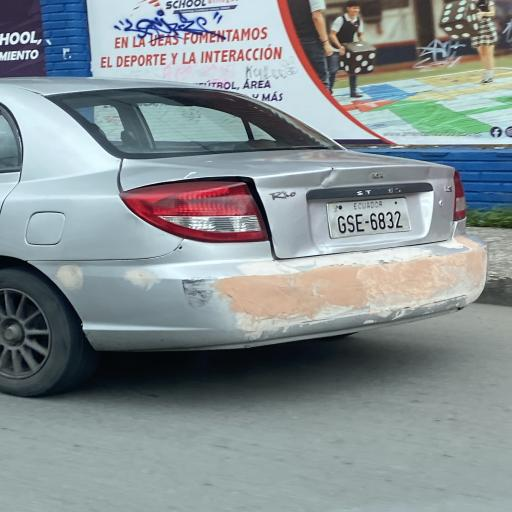license_plate: (327, 198, 410, 238)
